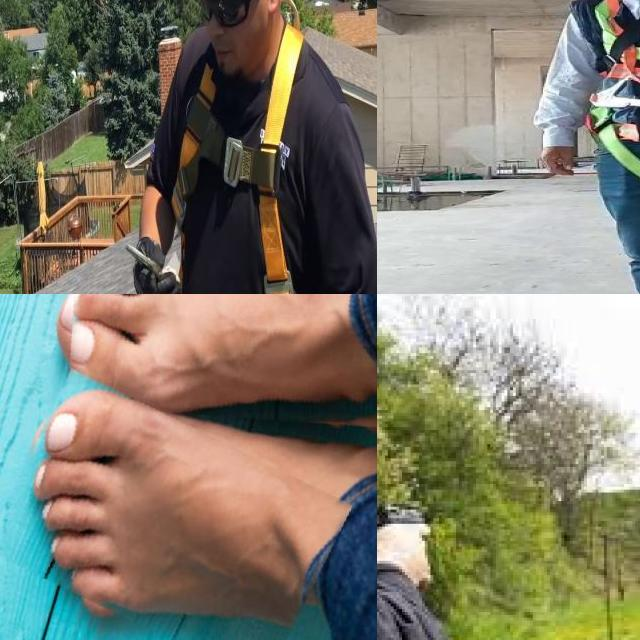Barefoots: (35, 391, 377, 621), (58, 294, 377, 421)
Harness: (173, 15, 343, 294), (581, 0, 640, 189)
